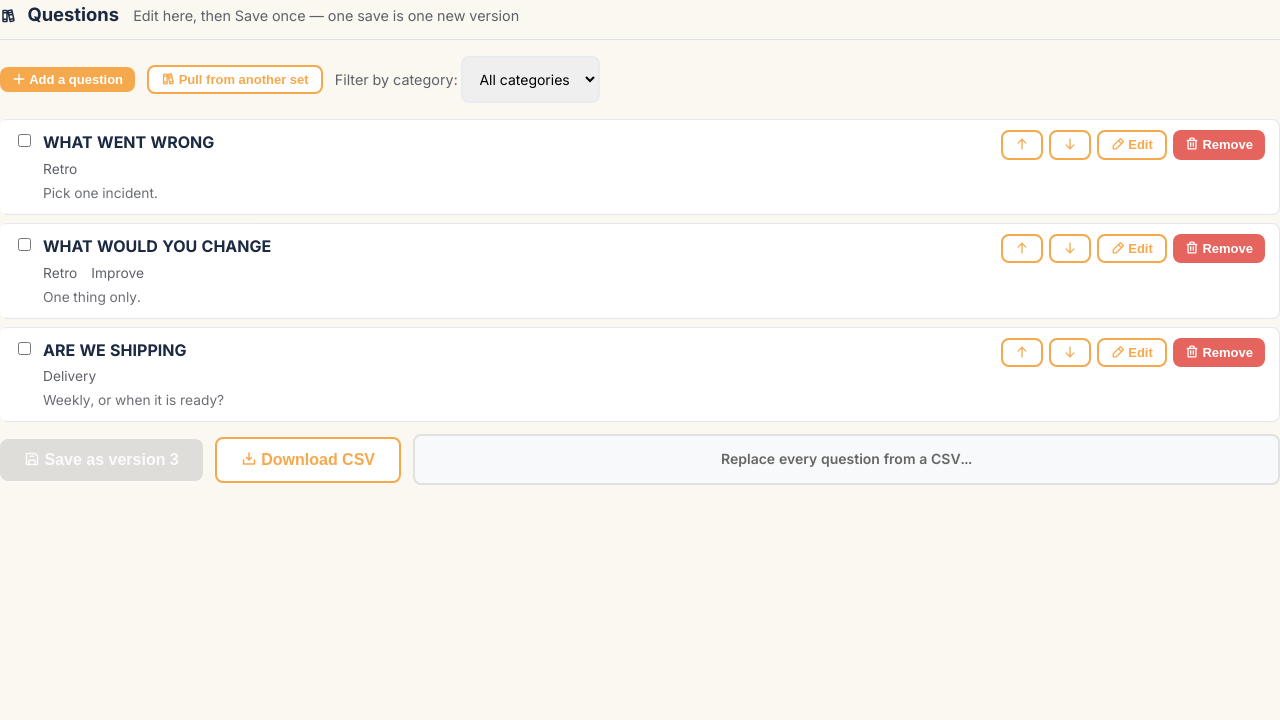
Test case: the working copy › asks before discarding, and puts the set back as it was
This screenshot has width=1280, height=720.
Check: the text "WHAT WENT WRONG" is shown, box x1=43 y1=130 x2=214 y2=156
Click the button "Remove" in the row of "ARE WE SHIPPING": (1219, 352) x1=1173 y1=338 x2=1265 y2=367
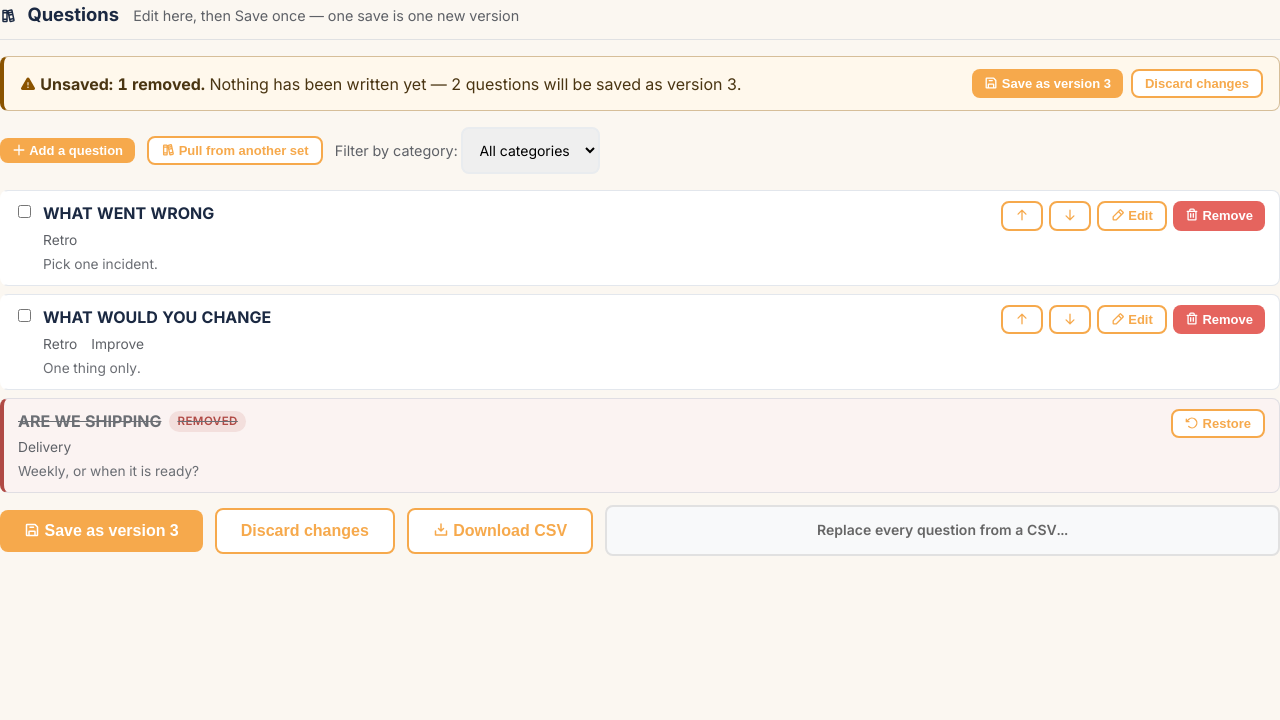
Note: First click only asks.
Click the button "Discard changes" in the row of "as version 3.": (1197, 84) x1=1131 y1=69 x2=1263 y2=98
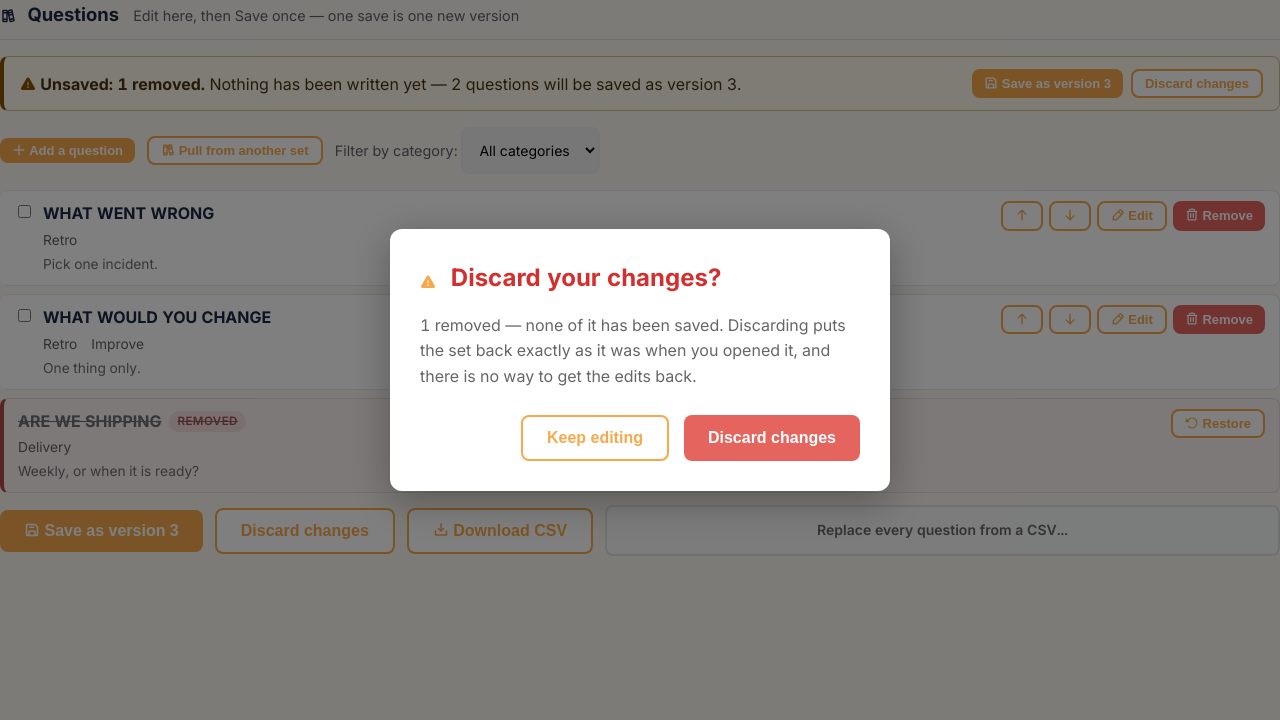
Check: the list item "ARE WE SHIPPING" has class "removed", box x1=0 y1=398 x2=1279 y2=493
Note: Backing out changes nothing.
Click the button "Keep editing": (595, 438) x1=521 y1=415 x2=669 y2=461
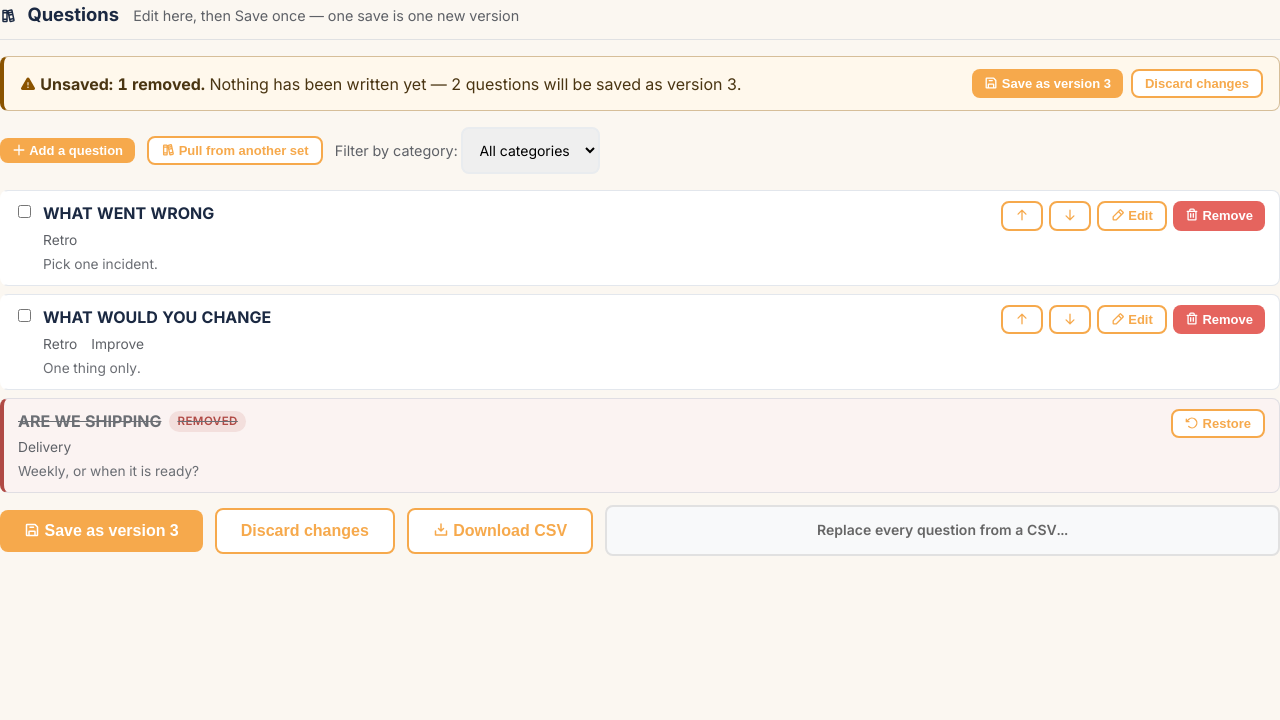
Check: the heading "Discard your changes?" is gone
Note: Confirming puts the set back where it started.
Click the button "Discard changes" in the row of "as version 3.": (1197, 84) x1=1131 y1=69 x2=1263 y2=98
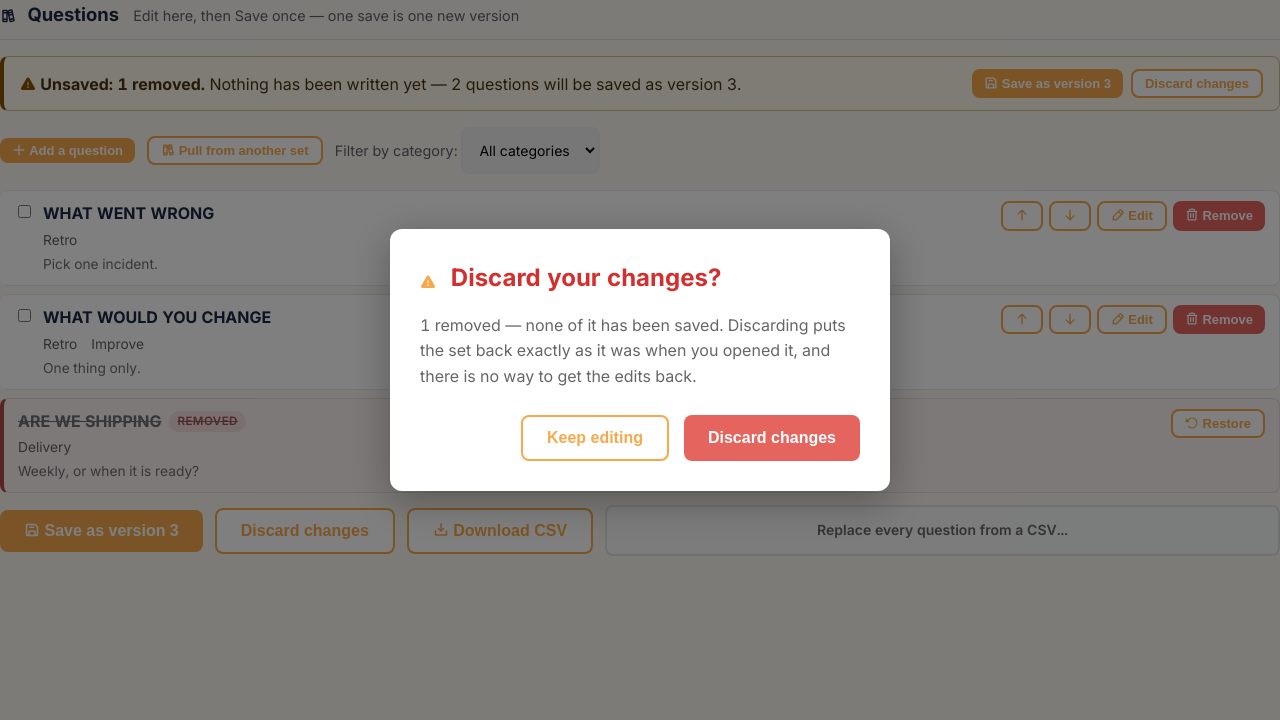
Click the button "Discard changes": (772, 438) x1=684 y1=415 x2=860 y2=461
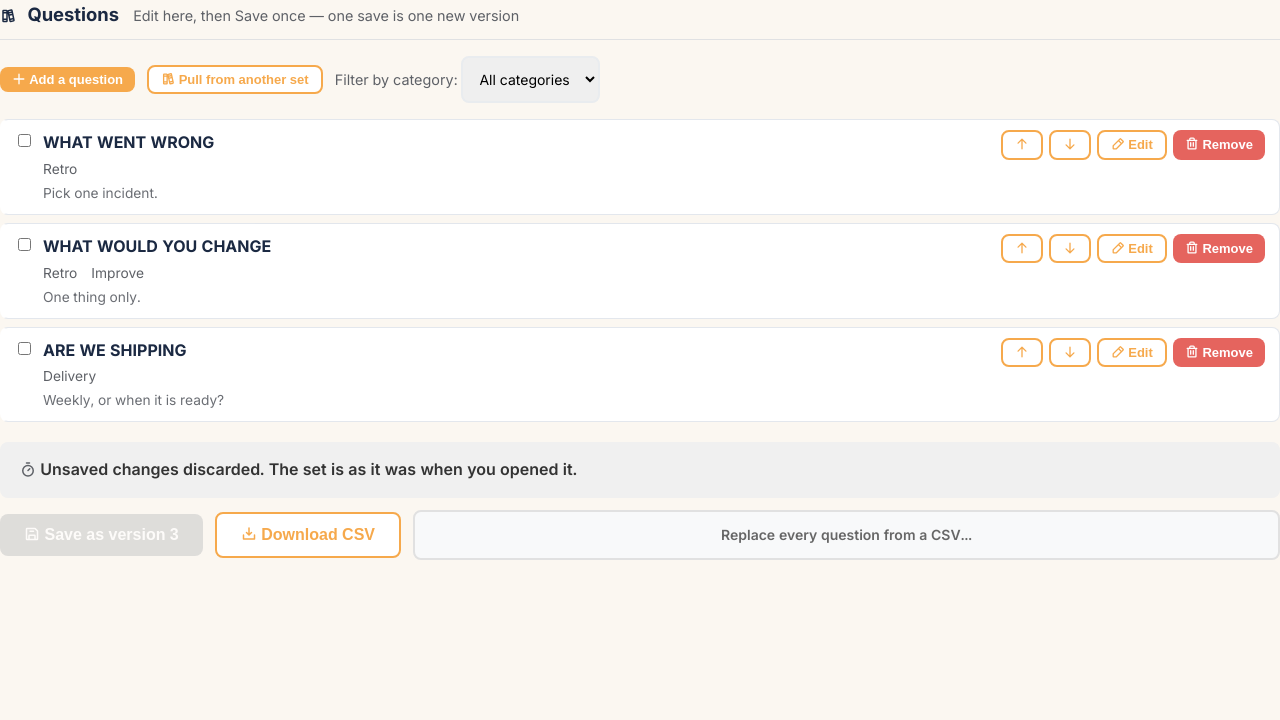
Check: the message with test id "unsaved-bar" is gone
